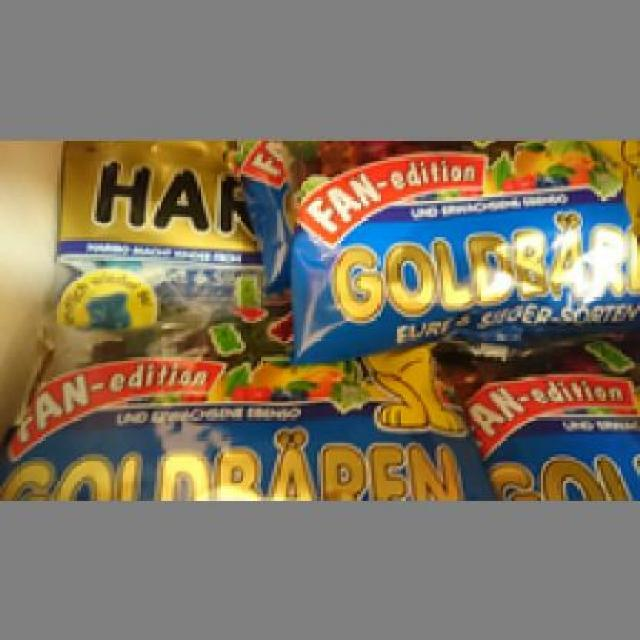Candy: (285, 140, 638, 366), (14, 323, 472, 494)
